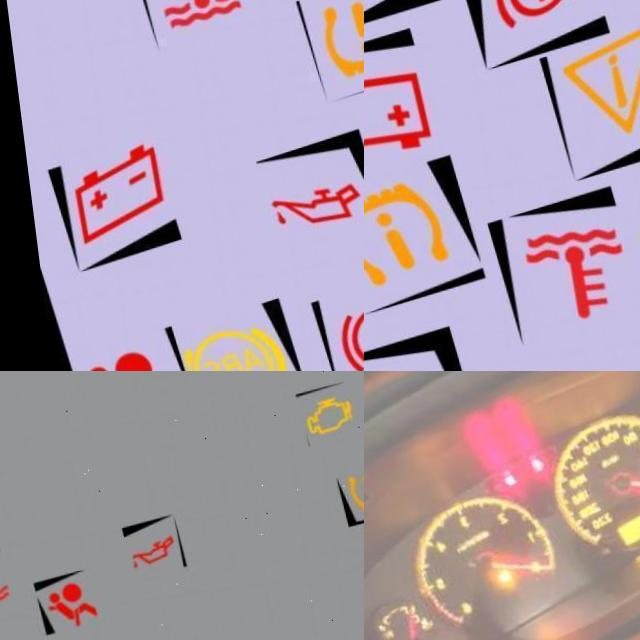Engine cooling system: (404, 617, 422, 635)
